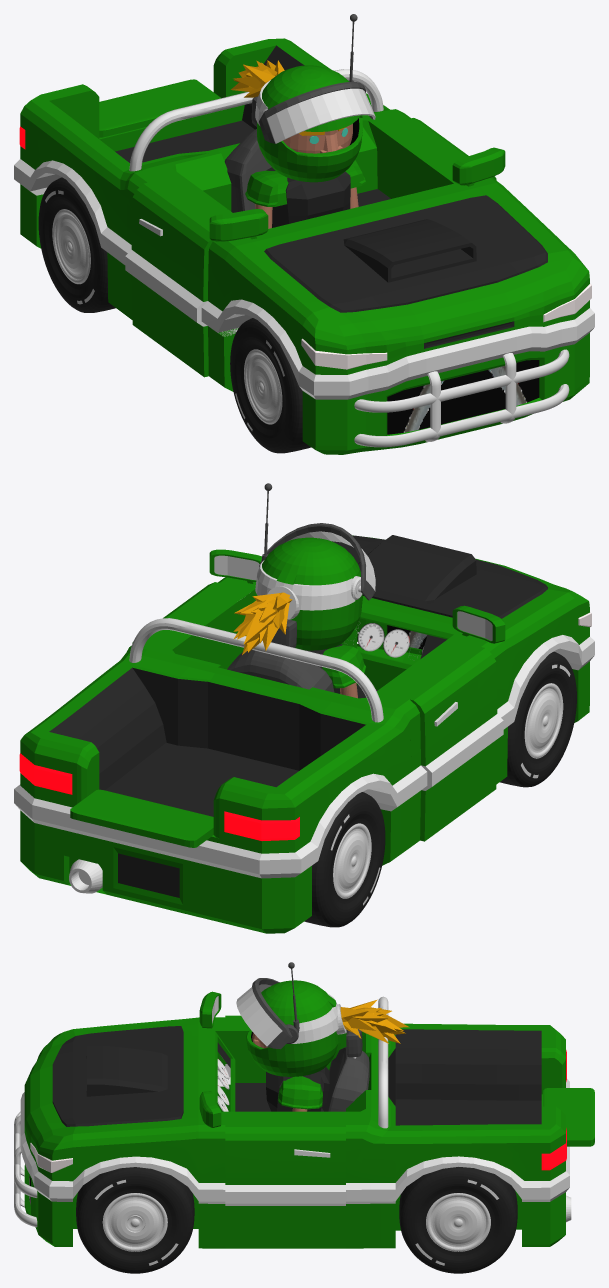
File: Carlita Modelo 2.fbx
3 renders of one model, top to bottom at view 1: azimuth 30°, elevation 25°; view 2: azimuth 150°, elevation 25°; view 3: azimuth 270°, elevation 25°, orthographic. The views are drawn at different scales.
Parts seen in each view (by area): view 1: Coche, WFR, Casco, WRR, Cuerpo Carlita, Visor, Cabeza Carlita; view 2: Coche, Casco, WRR, WFR, Visor, Cuerpo Carlita; view 3: Coche, WRL, WFL, Casco, Cuerpo Carlita, Visor.
Part boxes in pixels (x1,y1,x2,y2): Coche: (14, 38, 594, 454); WFR: (230, 318, 311, 453); Casco: (231, 14, 362, 182); WRR: (38, 177, 115, 312); Cuerpo Carlita: (245, 160, 366, 228); Visor: (259, 82, 375, 143); Cabeza Carlita: (283, 123, 352, 153); Coche: (14, 535, 594, 933); Casco: (233, 483, 362, 654); WRR: (304, 792, 385, 927); WFR: (500, 651, 576, 787); Visor: (259, 523, 375, 600); Cuerpo Carlita: (305, 644, 366, 698); Coche: (14, 991, 594, 1248); WRL: (399, 1167, 517, 1273); WFL: (76, 1167, 194, 1273); Casco: (246, 962, 409, 1076); Cuerpo Carlita: (266, 1067, 329, 1111); Visor: (236, 978, 292, 1049).
Size of the model in its own units: 119 by 120 by 231.
